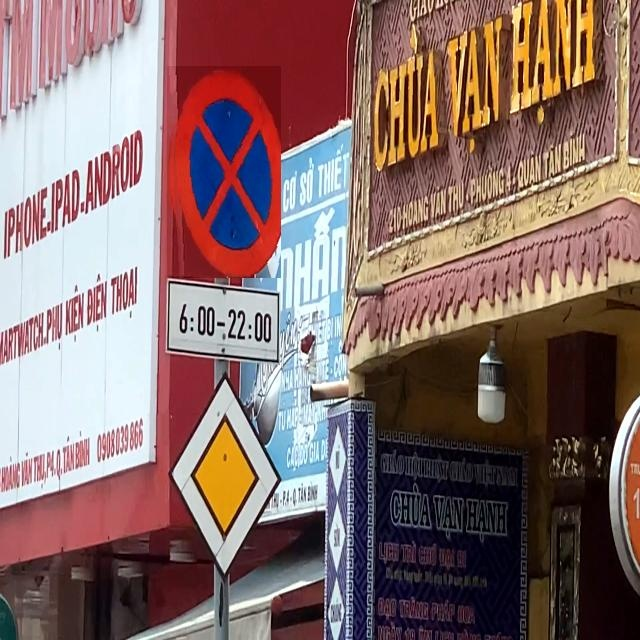bien_cam: (167, 66, 281, 278)
